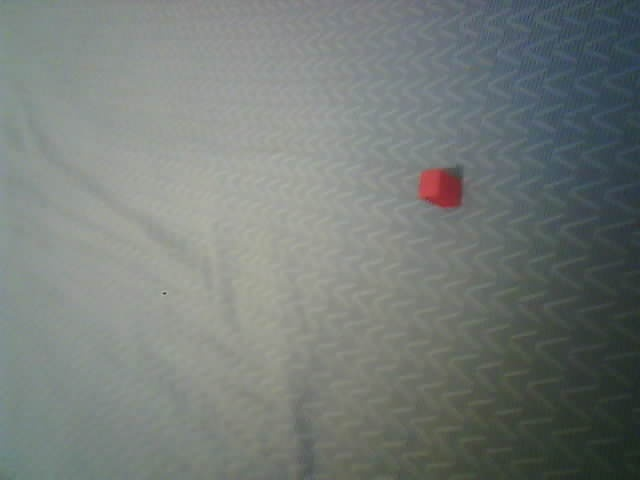lego: (417, 169, 462, 208)
